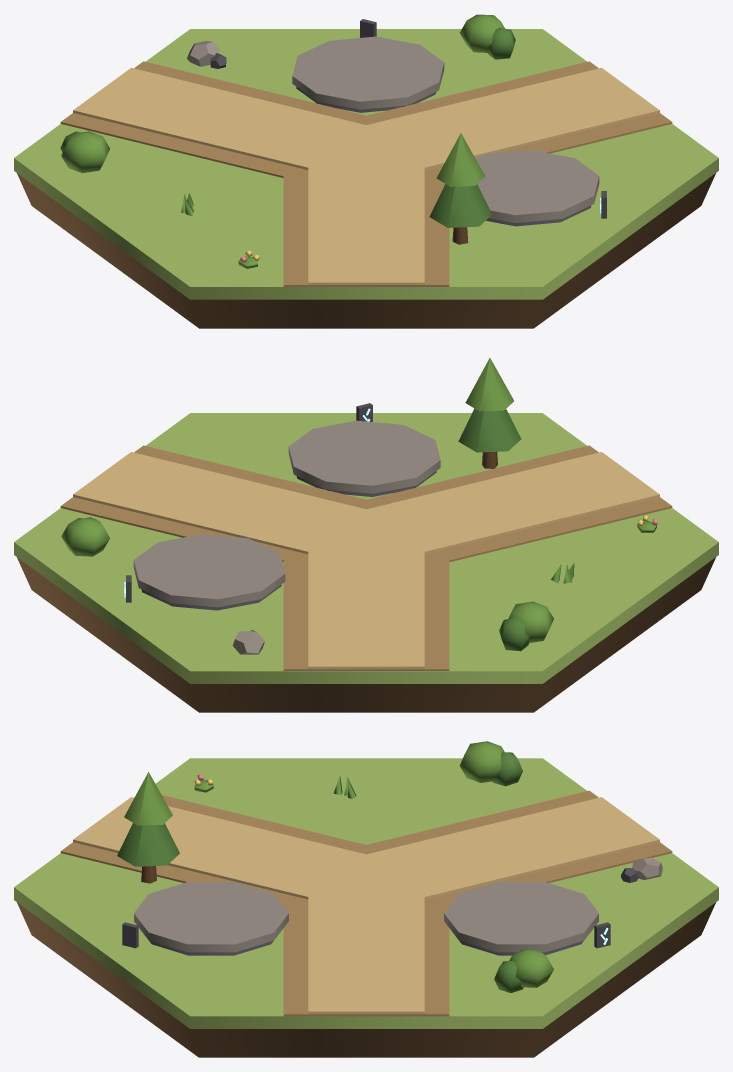
The model's file is tile_lightningFork.glb.
3 renders of one model, top to bottom at view 1: azimuth 30°, elevation 25°; view 2: azimuth 150°, elevation 25°; view 3: azimuth 270°, elevation 25°, orthographic.
Visible parts, largest first — view 1: ground, road, ground_soil, tower_slot_1_plate, tower_slot_2_plate, deco_tree_3_crown, deco_bush_0_a, deco_tree_3_crown_b, road_surface_hub, deco_bush_5_a, deco_bush_5_b, deco_stone_2_a; view 2: ground, road, ground_soil, tower_slot_1_plate, tower_slot_2_plate, road_surface_hub, deco_tree_3_crown, deco_tree_3_crown_b, deco_bush_5_a, deco_bush_0_a, deco_bush_0_b, deco_stone_2_a; view 3: ground, road, ground_soil, tower_slot_2_plate, tower_slot_1_plate, deco_tree_3_crown, deco_tree_3_crown_b, deco_bush_0_a, deco_bush_5_a, deco_bush_0_b, deco_bush_5_b, deco_stone_2_a.
Boxes of the visible parts, box(x1,y1,x2,y2) form: ground: box(14, 29, 718, 299); road: box(60, 61, 672, 286); ground_soil: box(17, 173, 715, 328); tower_slot_1_plate: box(292, 36, 444, 109); tower_slot_2_plate: box(475, 150, 599, 223); deco_tree_3_crown: box(429, 184, 492, 227); deco_bush_0_a: box(61, 131, 109, 173); deco_tree_3_crown_b: box(436, 133, 485, 186); road_surface_hub: box(309, 129, 398, 177); deco_bush_5_a: box(459, 14, 504, 52); deco_bush_5_b: box(487, 27, 515, 59); deco_stone_2_a: box(187, 41, 219, 66); ground: box(14, 413, 718, 683); road: box(60, 445, 672, 670); ground_soil: box(17, 557, 715, 712); tower_slot_1_plate: box(133, 534, 285, 607); tower_slot_2_plate: box(288, 420, 440, 493); road_surface_hub: box(309, 513, 416, 561); deco_tree_3_crown: box(458, 408, 521, 452); deco_tree_3_crown_b: box(465, 358, 513, 411); deco_bush_5_a: box(61, 518, 109, 556); deco_bush_0_a: box(508, 601, 553, 642); deco_bush_0_b: box(499, 617, 529, 651); deco_stone_2_a: box(233, 631, 264, 654); ground: box(14, 758, 718, 1028); road: box(60, 790, 672, 1016); ground_soil: box(17, 902, 715, 1057); tower_slot_2_plate: box(134, 882, 288, 952); tower_slot_1_plate: box(444, 882, 598, 952); deco_tree_3_crown: box(117, 823, 179, 866); deco_tree_3_crown_b: box(124, 772, 172, 825); deco_bush_0_a: box(459, 741, 504, 782); deco_bush_5_a: box(509, 949, 553, 987); deco_bush_0_b: box(492, 752, 522, 786); deco_bush_5_b: box(494, 961, 523, 992); deco_stone_2_a: box(632, 857, 662, 879).
Bounding box in the file's own units: 1.73 × 0.4899 × 2.
